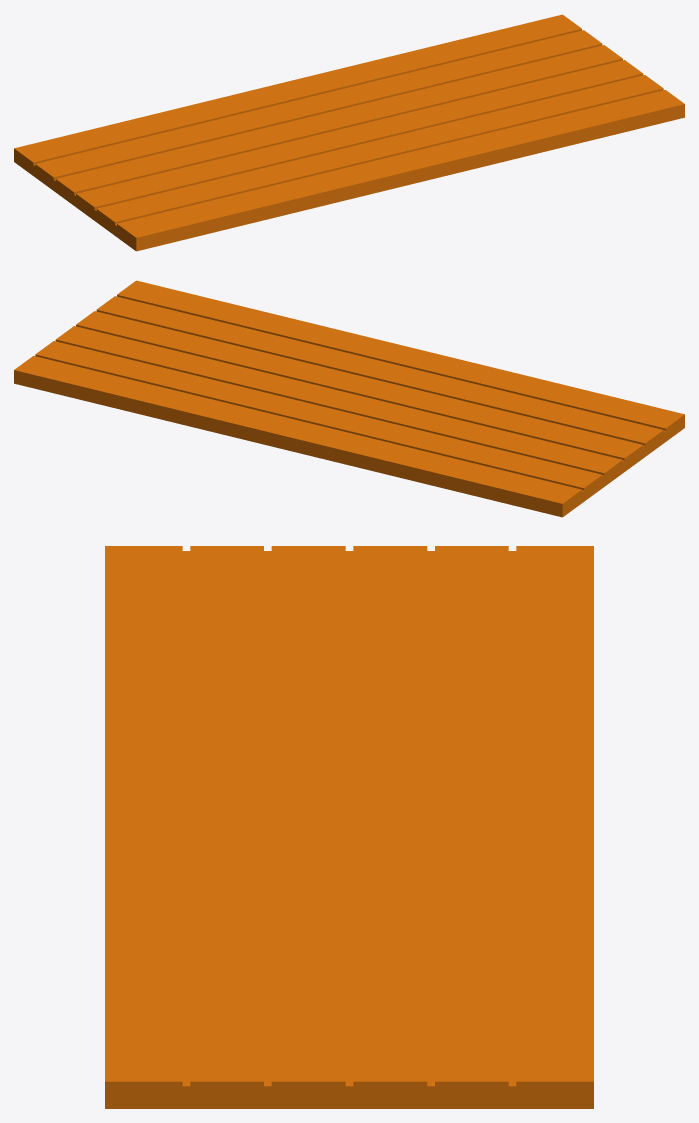
Rendered from LV2GROUND.fbx.
3 renders of one model, top to bottom at view 1: azimuth 30°, elevation 25°; view 2: azimuth 150°, elevation 25°; view 3: azimuth 270°, elevation 25°, orthographic. The views are drawn at different scales.
Visible parts, largest first — view 1: lv2ground; view 2: lv2ground; view 3: lv2ground.
Boxes of the visible parts, x1,y1,x2,y2 form: lv2ground: (14, 14, 684, 251); lv2ground: (14, 280, 684, 517); lv2ground: (105, 546, 593, 1108).
Bounding box in the file's own units: 696 × 16.49 × 269.
